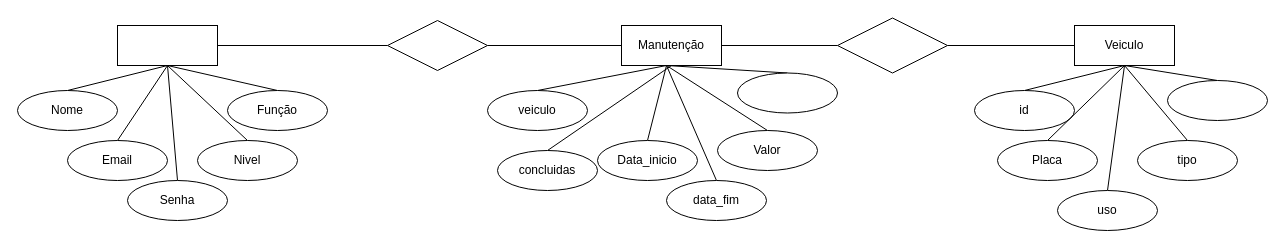
The diagram is 1285 pixels wide and 248 high, and some of its shapes have lost their labels. The shapes that lost their labels are listed below. From the top down, each one's centre as x and y in pixels, then its label:
the point at 167,45: Usuario
the point at 437,45: Cadastrar
the point at 892,45: Contêm
the point at 787,92: Descrição
the point at 1217,100: modelo
